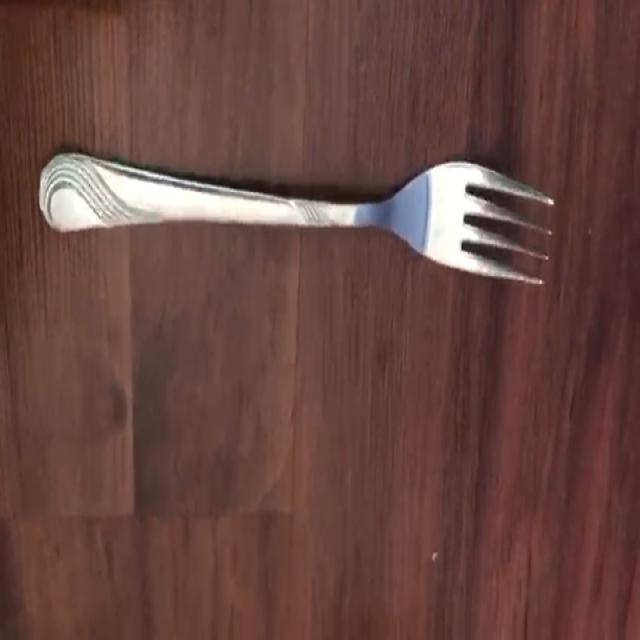spoon: (39, 152, 554, 284)
